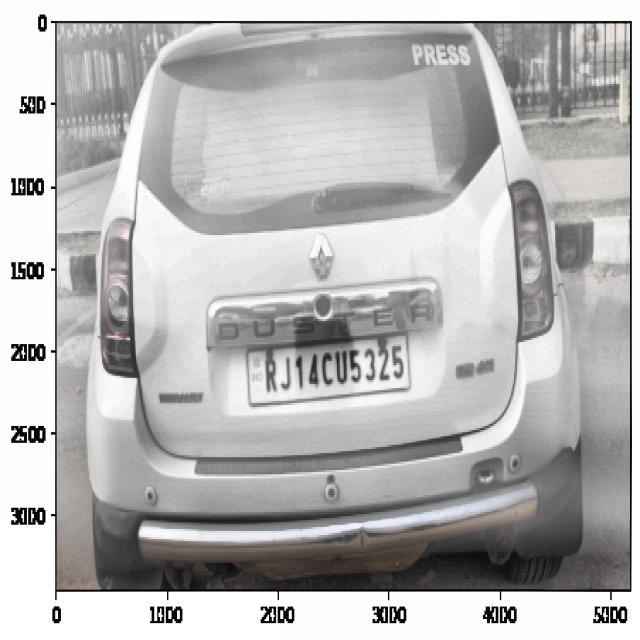license_plate: (256, 339, 410, 398)
